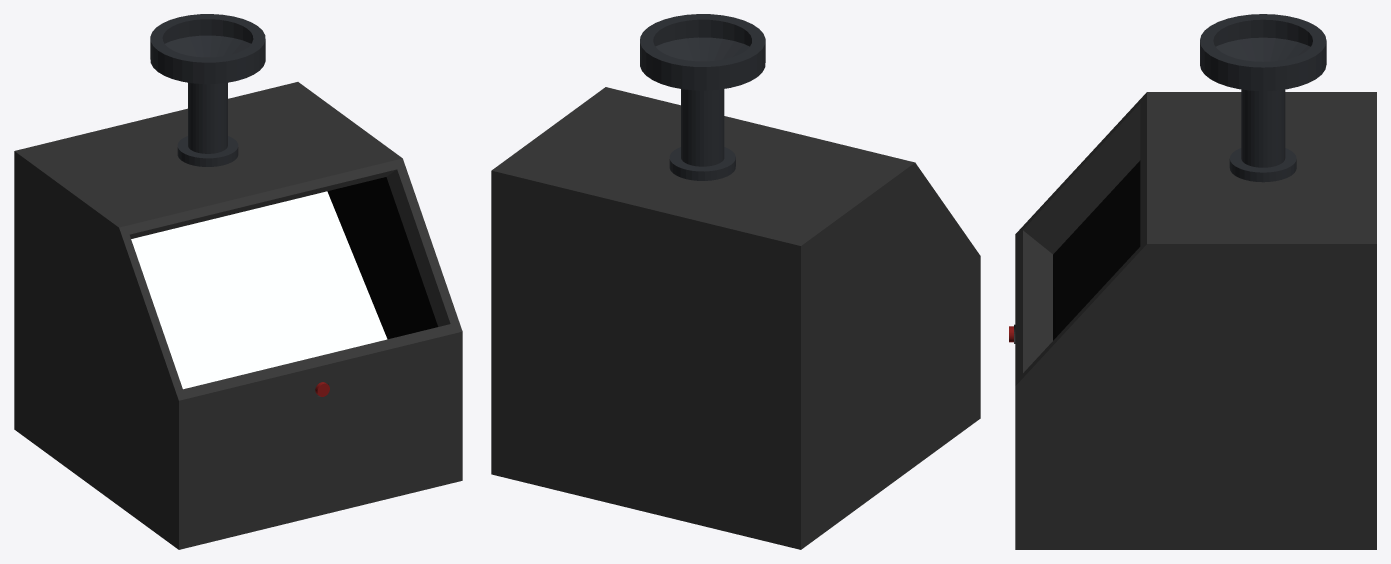
The model's file is Mo_ForestVillageFurnace01.fbx.
The picture shows the model from 3 angles, left to right: view 1: azimuth 30°, elevation 25°; view 2: azimuth 150°, elevation 25°; view 3: azimuth 270°, elevation 25°; orthographic projection. The views are drawn at different scales.
Parts seen in each view (by area): view 1: Cube; view 2: Cube; view 3: Cube.
Part boxes in pixels (x1=…): Cube: x1=14, y1=14, x2=462, y2=549; Cube: x1=491, y1=14, x2=980, y2=549; Cube: x1=1009, y1=14, x2=1376, y2=549.
Bounding box in the file's own units: 398 × 529 × 407.
